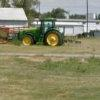Tractor: (10, 15, 88, 52)
